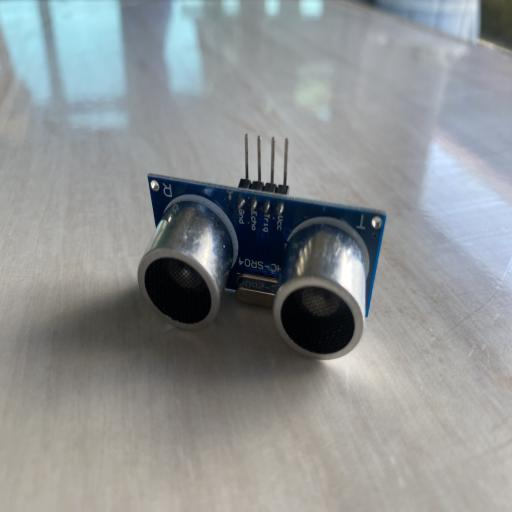Ultrasonic Sensor: (137, 133, 387, 361)
